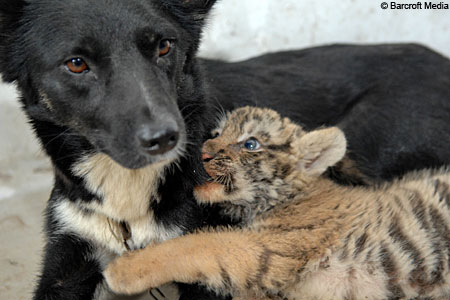dog: (1, 1, 449, 187)
tiger: (105, 105, 450, 299)
